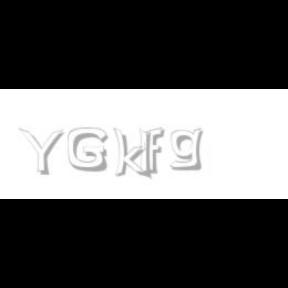G: (68, 128, 108, 172)
Y: (18, 128, 64, 176)
f: (144, 128, 168, 174)
g: (170, 128, 206, 171)
k: (113, 128, 151, 180)
l: (139, 128, 155, 180)
